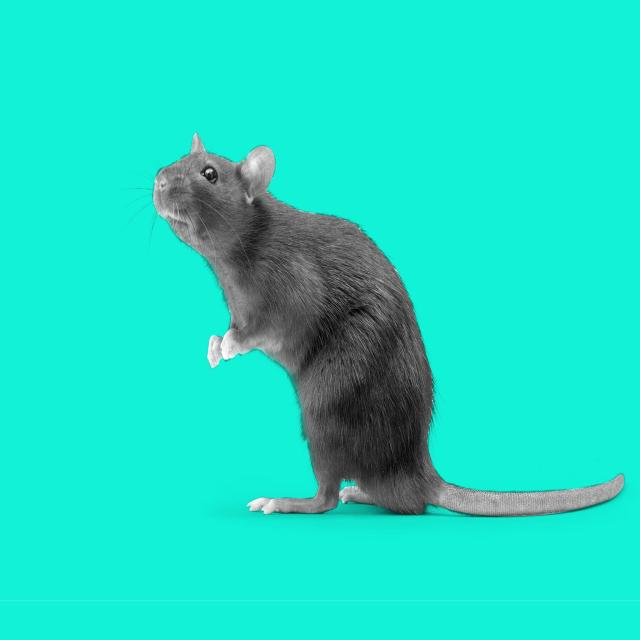rat: (153, 134, 624, 516)
